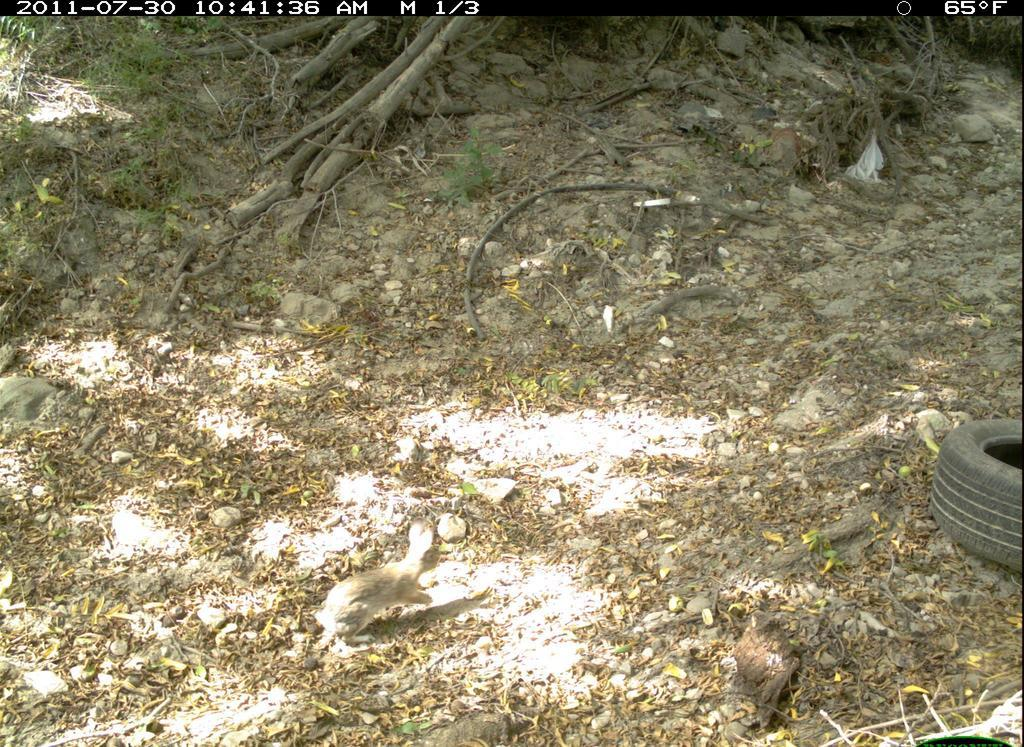rabbit: (309, 519, 455, 661)
